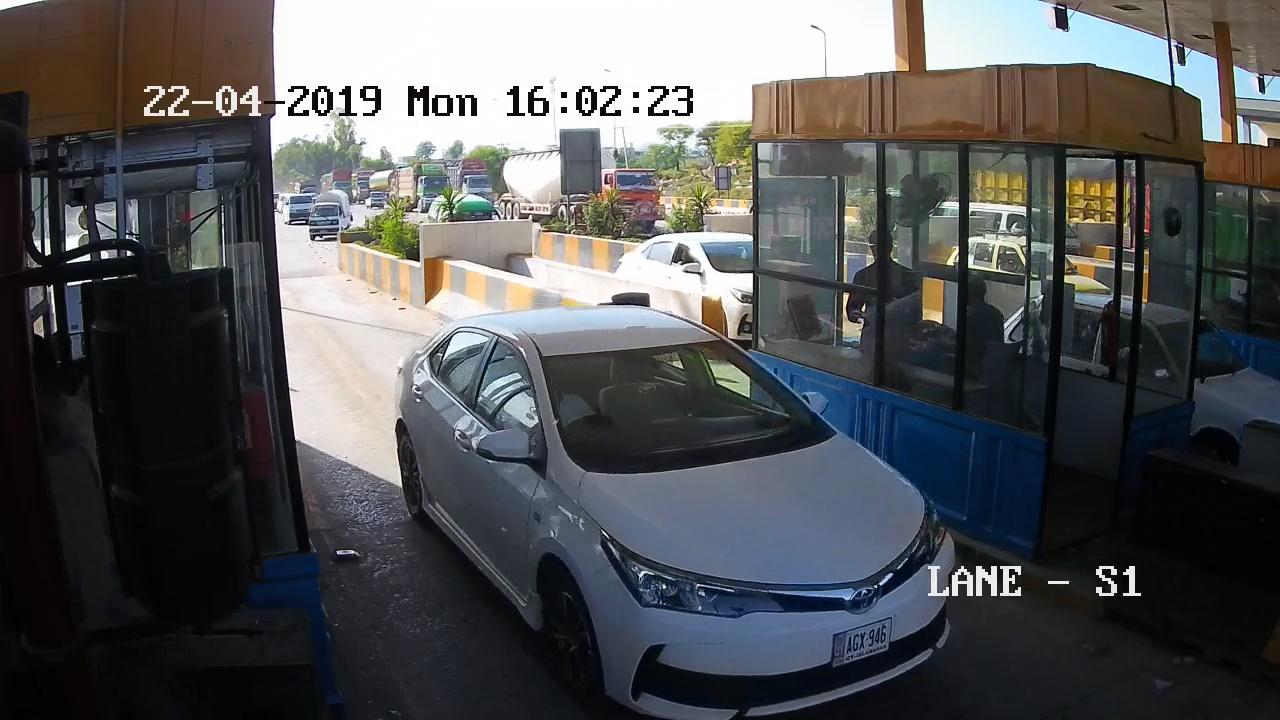Number Plate (Car): (834, 621, 892, 663)
